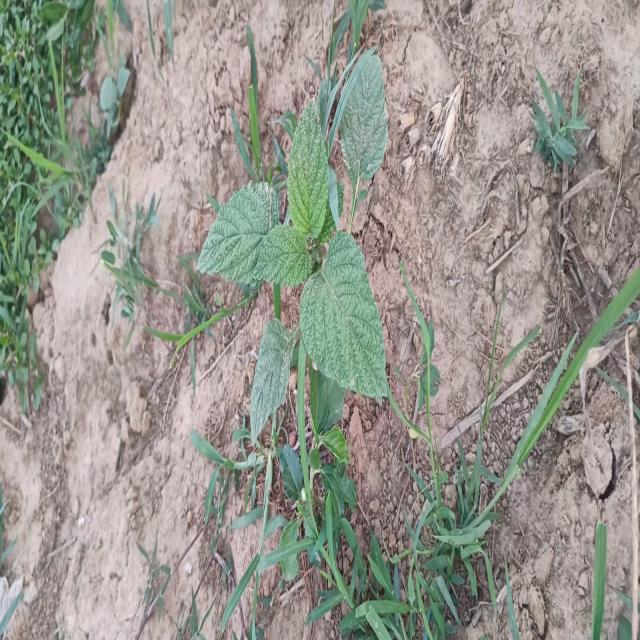plant: (198, 101, 388, 442), (341, 53, 388, 222)
